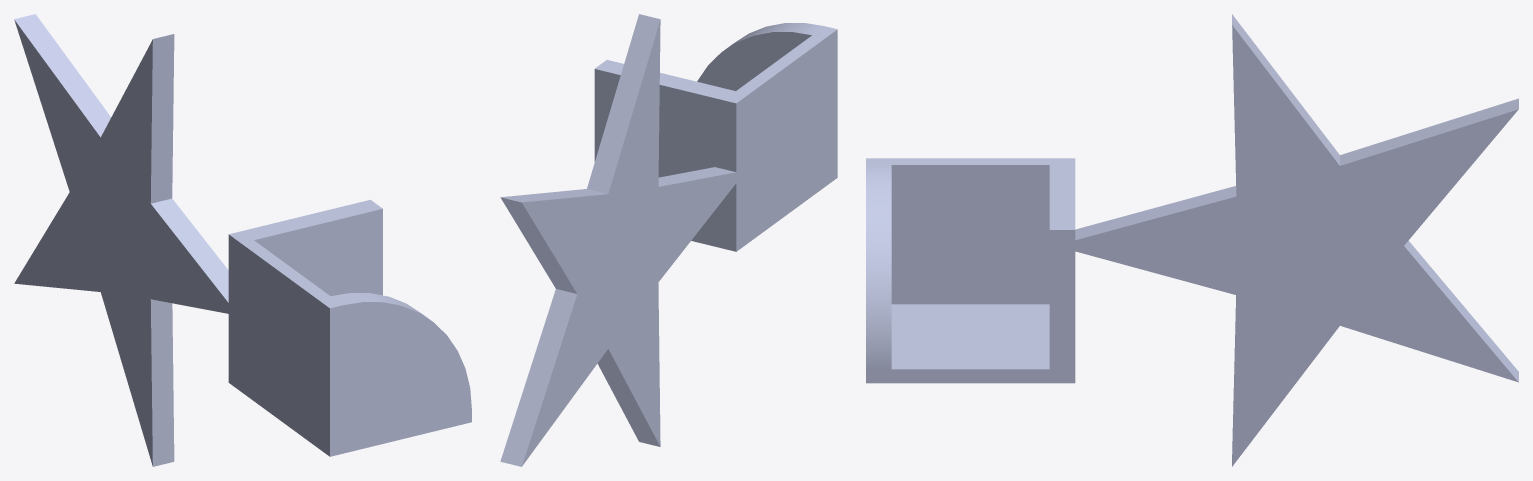
Rendered from star.obj.
The picture shows the model from 3 angles, left to right: view 1: azimuth 30°, elevation 25°; view 2: azimuth 150°, elevation 25°; view 3: azimuth 270°, elevation 25°; orthographic projection. The views are drawn at different scales.
Parts seen in each view (by area): view 1: Root|camcali_VISUALIZE_(Default)|Merged_Parts|Part; view 2: Root|camcali_VISUALIZE_(Default)|Merged_Parts|Part; view 3: Root|camcali_VISUALIZE_(Default)|Merged_Parts|Part.
Boxes of the visible parts, x1,y1,x2,y2 form: Root|camcali_VISUALIZE_(Default)|Merged_Parts|Part: (14, 14, 471, 466); Root|camcali_VISUALIZE_(Default)|Merged_Parts|Part: (500, 14, 837, 466); Root|camcali_VISUALIZE_(Default)|Merged_Parts|Part: (866, 14, 1518, 466).
Size of the model in its own units: 0.033 by 0.0951 by 0.1273.
